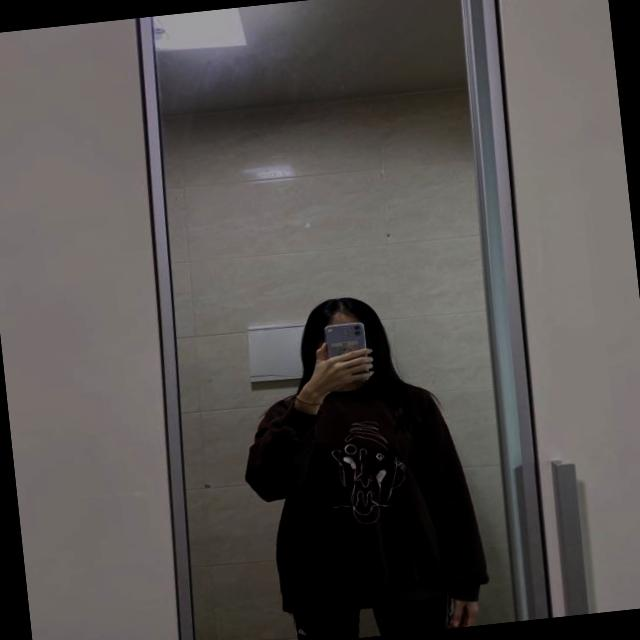mtm: (243, 366, 497, 618)
